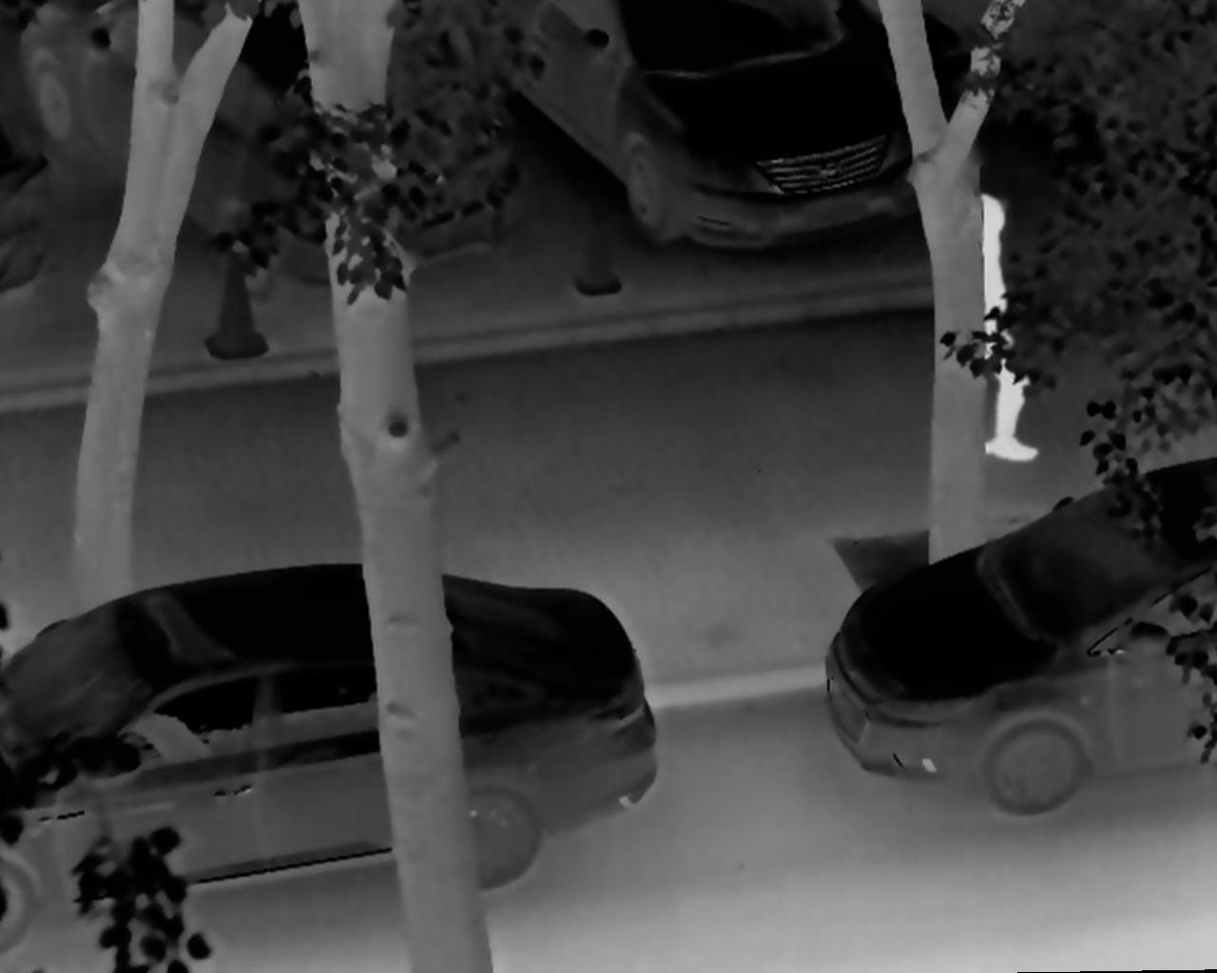person: (964, 191, 1043, 464)
